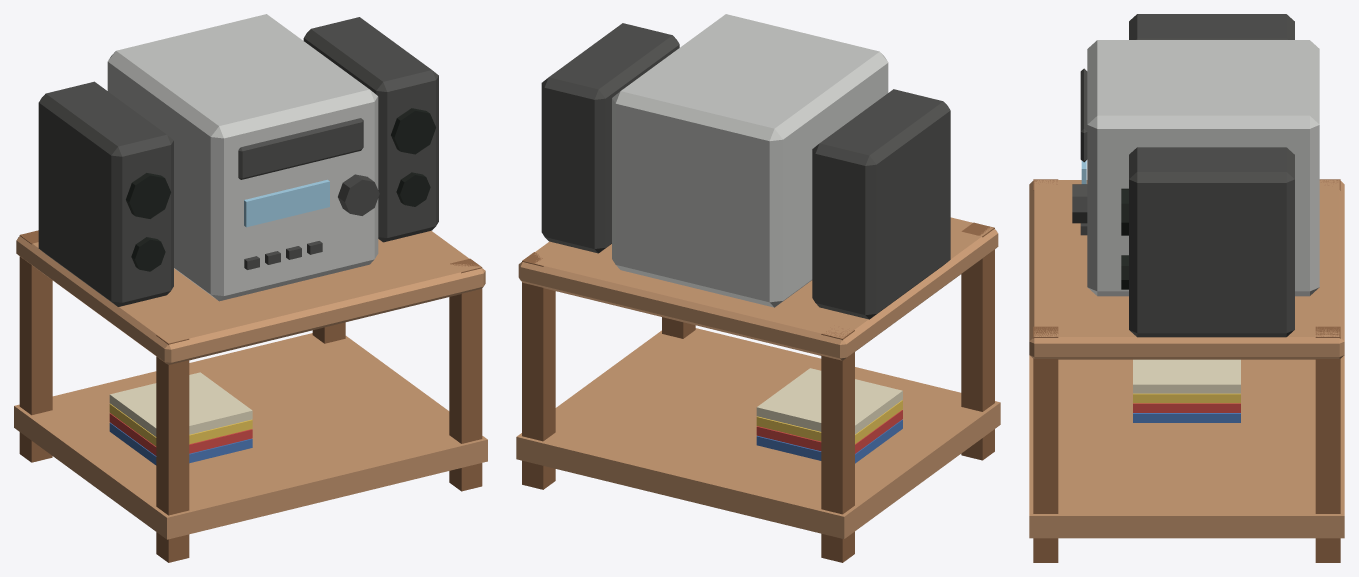
File: cd_player.glb
3 renders of one model, left to right at view 1: azimuth 30°, elevation 25°; view 2: azimuth 150°, elevation 25°; view 3: azimuth 270°, elevation 25°, orthographic. The views are drawn at different scales.
Parts seen in each view (by area): view 1: cd_player; view 2: cd_player; view 3: cd_player.
Boxes of the visible parts, x1,y1,x2,y2 form: cd_player: [14, 14, 487, 562]; cd_player: [516, 14, 1000, 562]; cd_player: [1029, 14, 1344, 562].
Size of the model in its own units: 0.47 by 0.54 by 0.38.
1 material, 1 textured.
